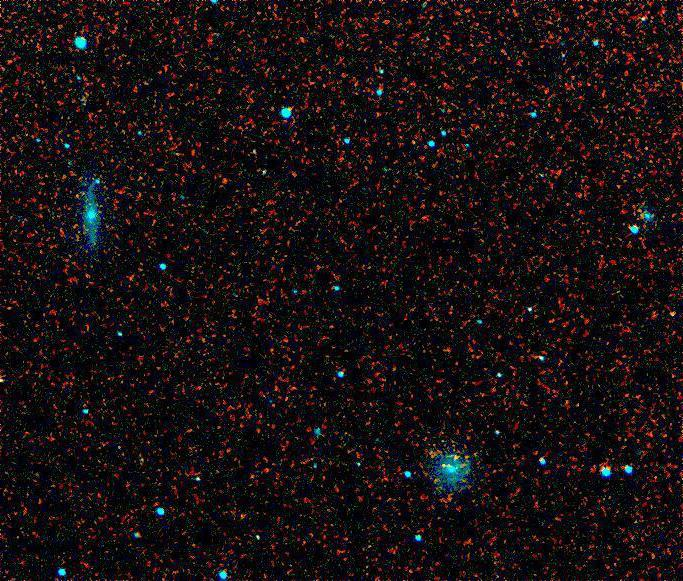star: (657, 301, 683, 331)
